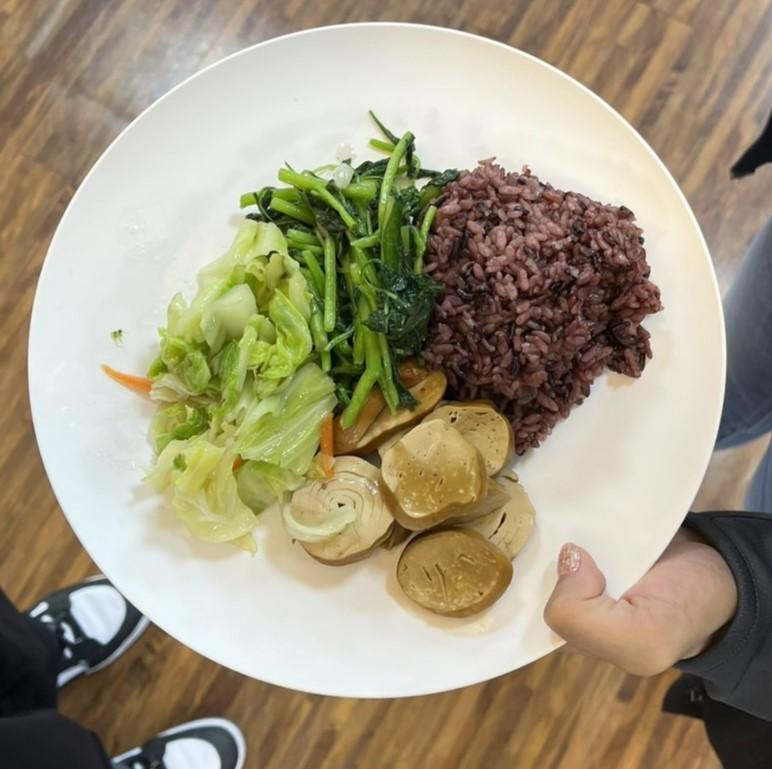big fried chicken leg: (18, 14, 738, 708)
braised fish: (399, 154, 660, 439)
braised fish fillet: (133, 225, 329, 551), (284, 395, 535, 617), (280, 135, 434, 399)
